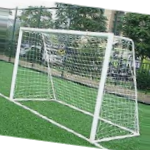goals: (9, 25, 141, 142)
